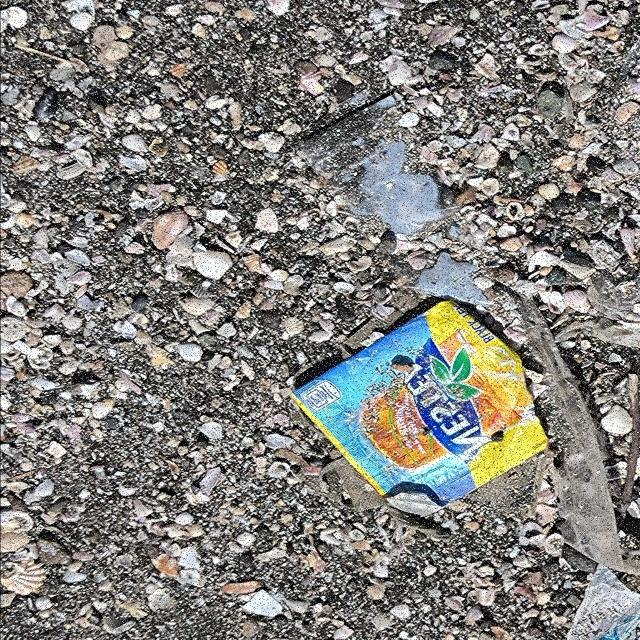plastic_waste: (295, 303, 550, 519)
